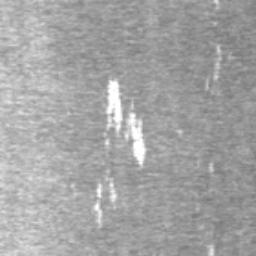White rust: (125, 99, 150, 167), (103, 76, 123, 145), (205, 43, 224, 93), (93, 182, 103, 228), (108, 176, 117, 204), (208, 243, 214, 256), (210, 161, 214, 172)
